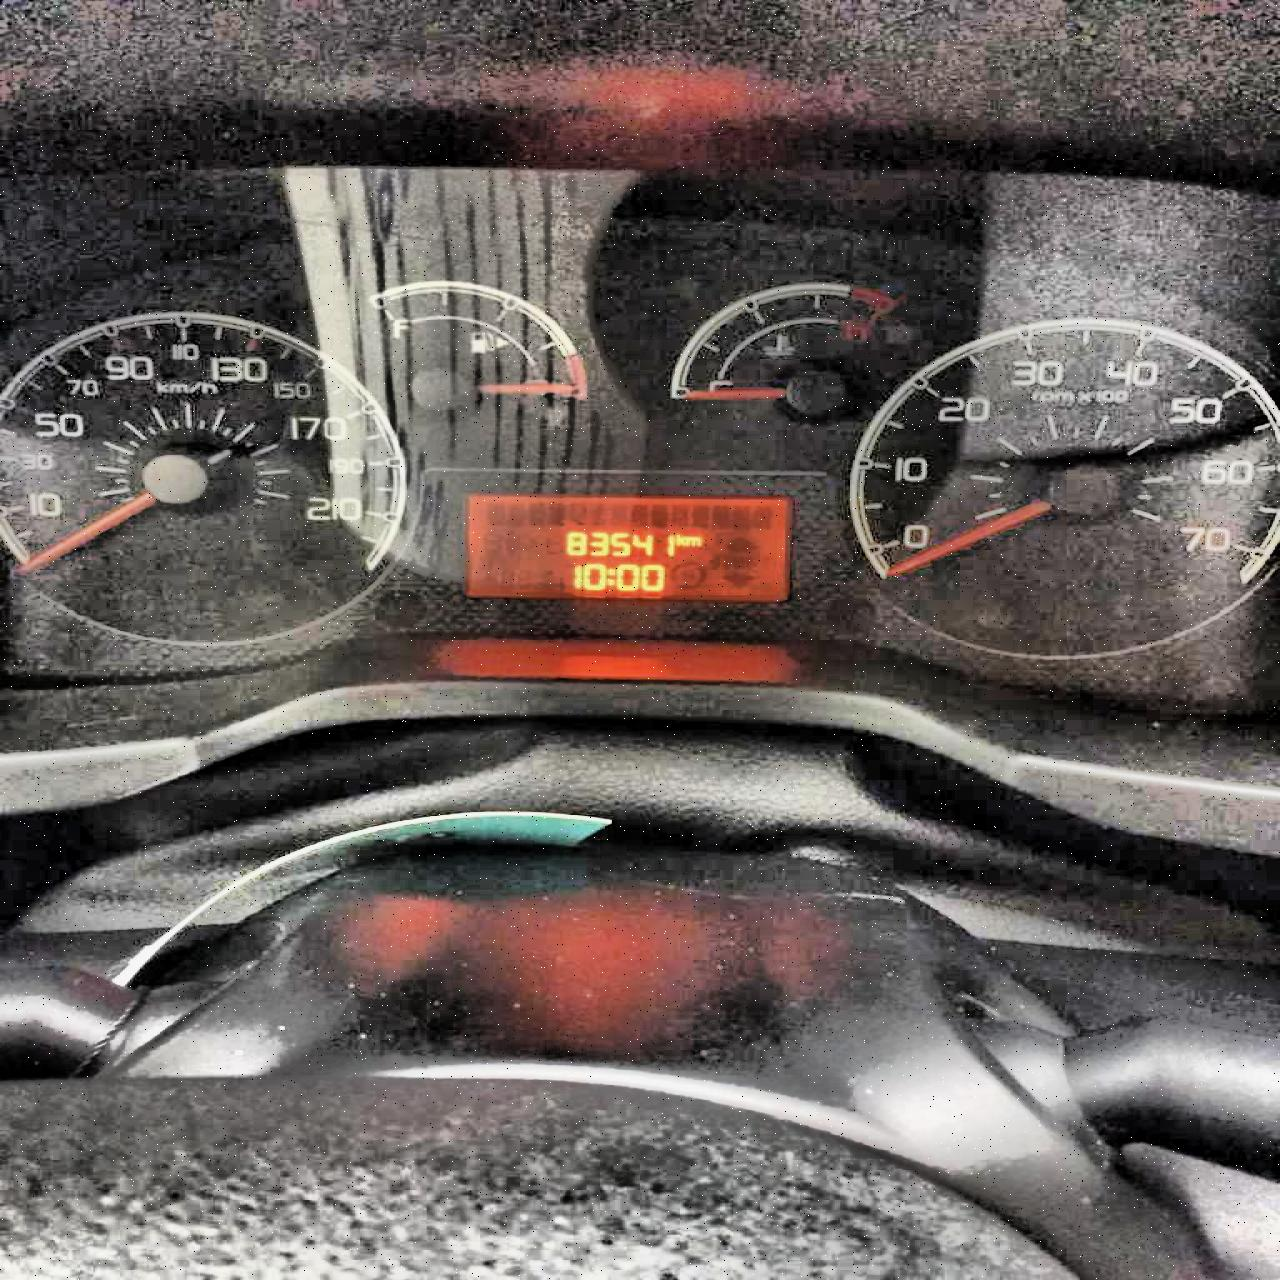0: (614, 560, 639, 590), (639, 563, 663, 592), (581, 561, 604, 590)
1: (663, 531, 674, 558), (572, 563, 581, 588)
3: (586, 529, 606, 557)
4: (632, 531, 653, 557)
5: (610, 530, 628, 558)
8: (564, 530, 585, 556)
X: (687, 533, 703, 547), (605, 565, 615, 586), (675, 530, 685, 546)
odometer: (463, 489, 791, 600)
